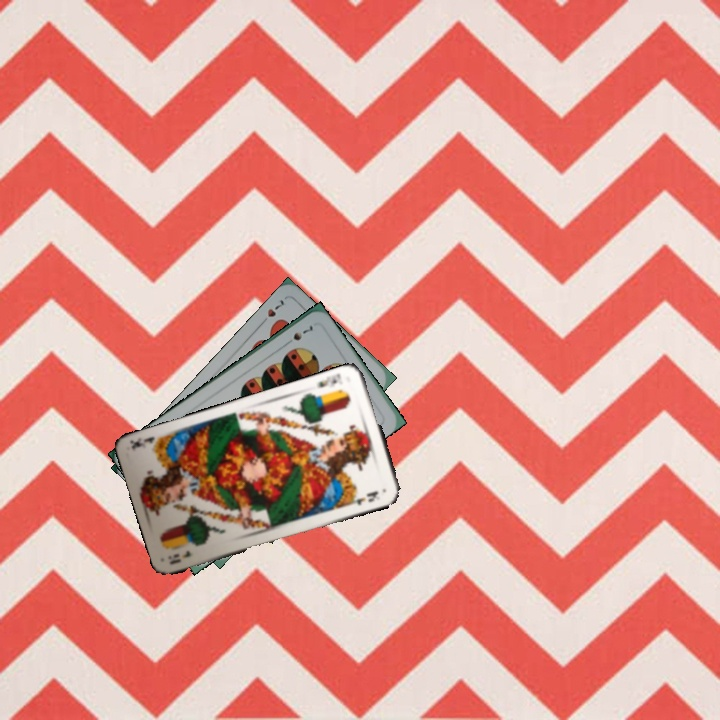EK: (313, 370, 345, 390), (165, 546, 194, 567)
H7: (256, 295, 287, 328)
S7: (281, 321, 316, 348)
